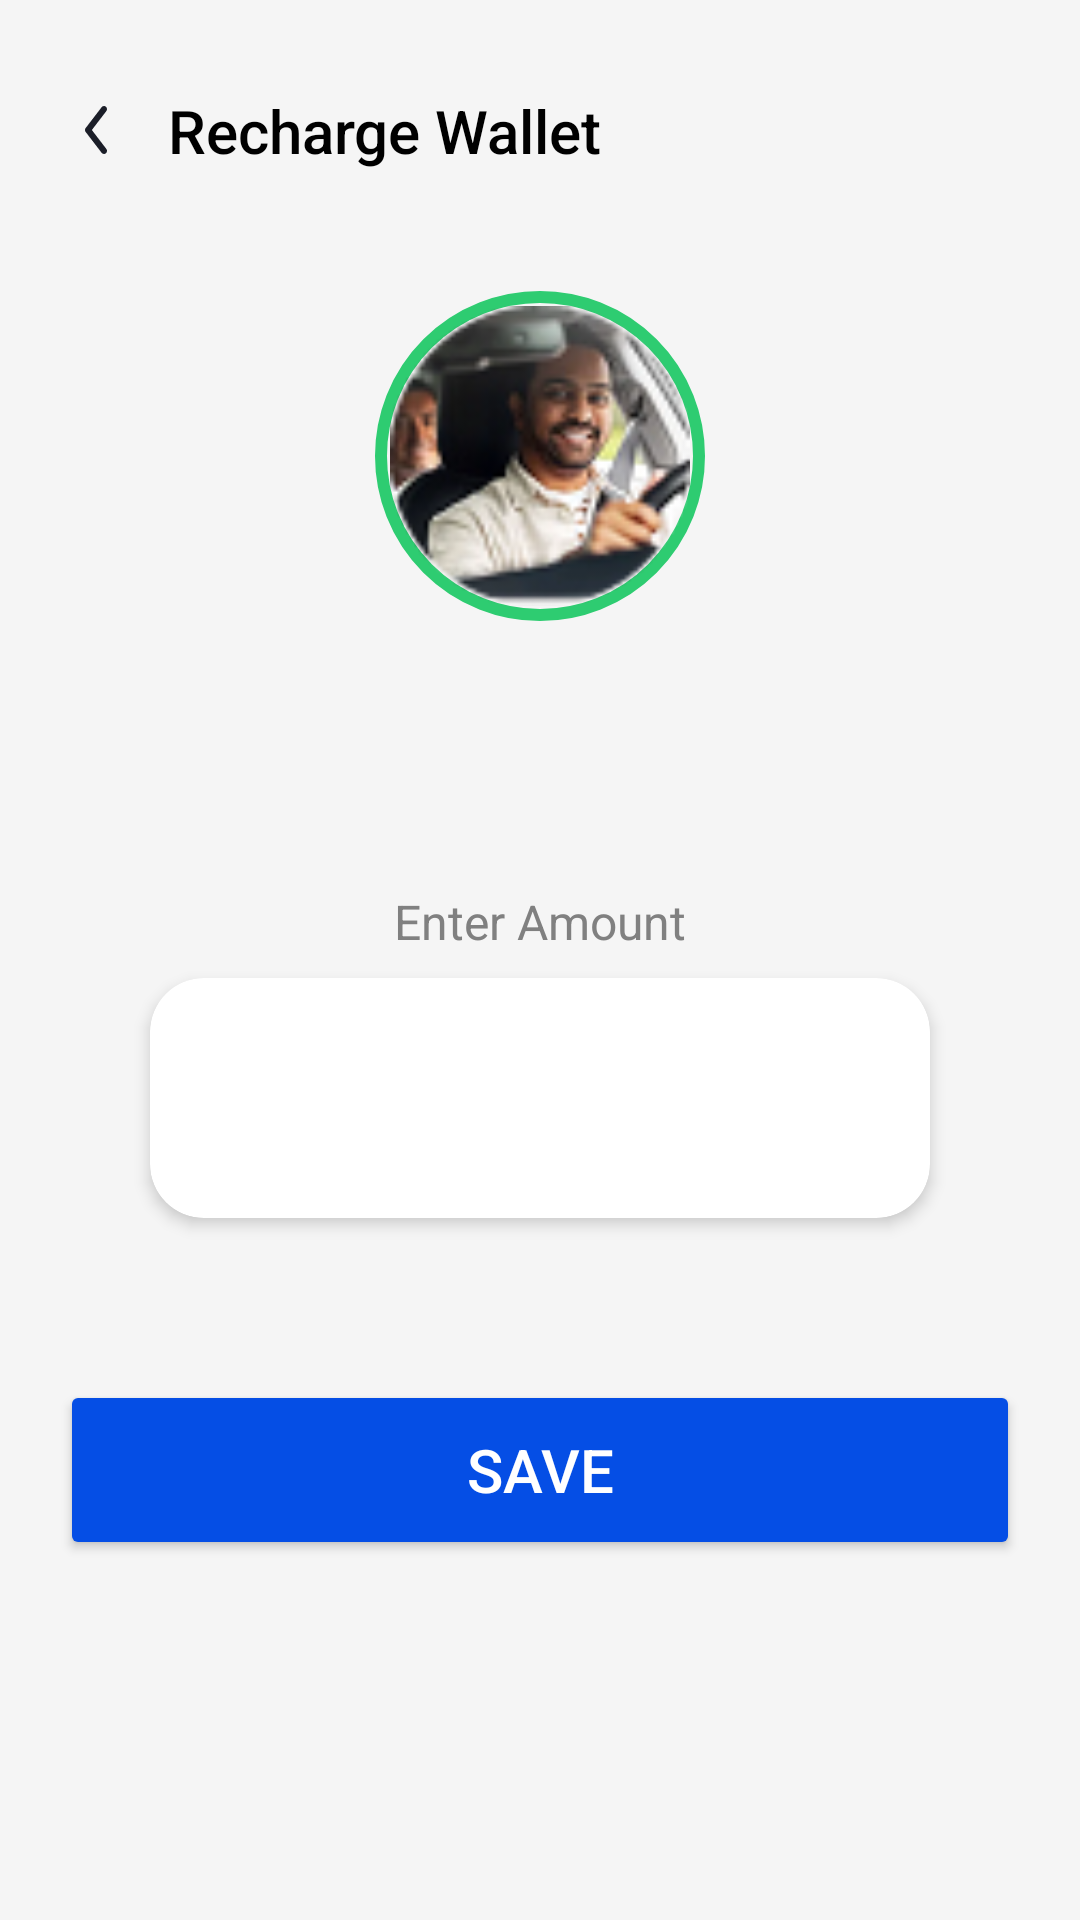

Point at icon controls on the screen. Image size 1080 × 1920, points as point (x, y).
arrow back: point (96, 130)
driver: point (540, 456)
